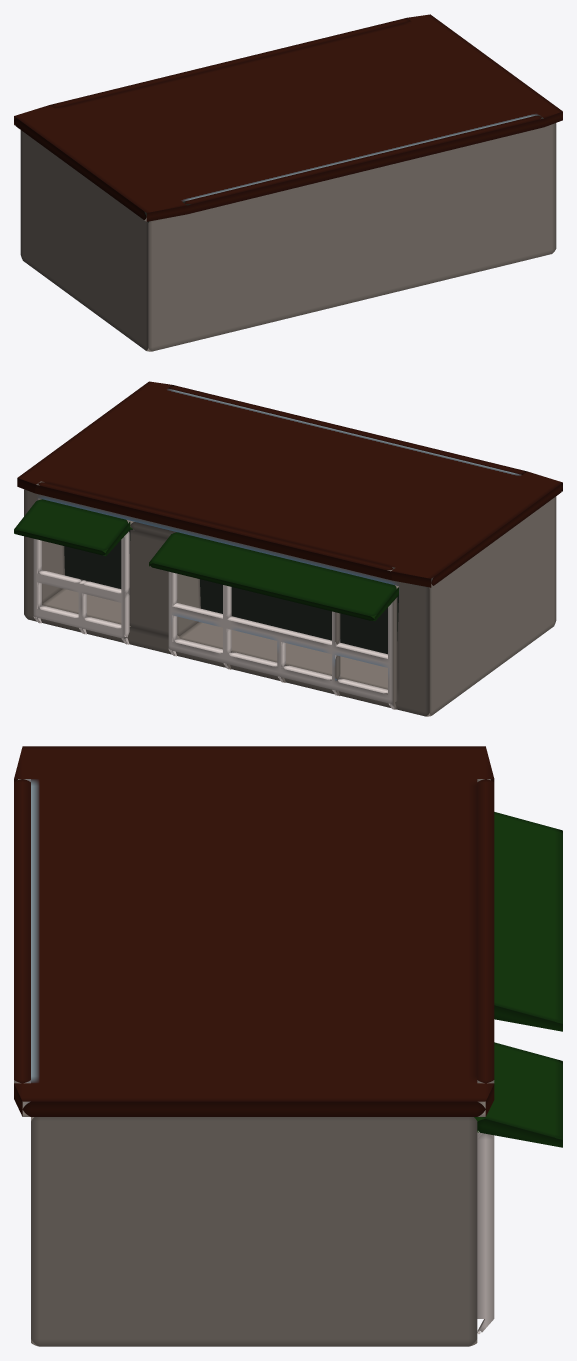
The model's file is ApartmentBuildingTop.fbx.
The picture shows the model from 3 angles, top to bottom: view 1: azimuth 30°, elevation 25°; view 2: azimuth 150°, elevation 25°; view 3: azimuth 270°, elevation 25°; orthographic projection. The views are drawn at different scales.
Parts seen in each view (by area): view 1: middleBase; view 2: middleBase, fence, fence_1; view 3: middleBase, fence_1.
Boxes of the visible parts, x1,y1,x2,y2 form: middleBase: [14, 14, 562, 351]; middleBase: [14, 381, 562, 716]; fence: [168, 571, 397, 709]; fence_1: [33, 531, 129, 644]; middleBase: [14, 746, 562, 1346]; fence_1: [477, 1131, 494, 1333].
Size of the model in its own units: 306 by 100 by 200.
Materials: 1 (1 with a texture image).
